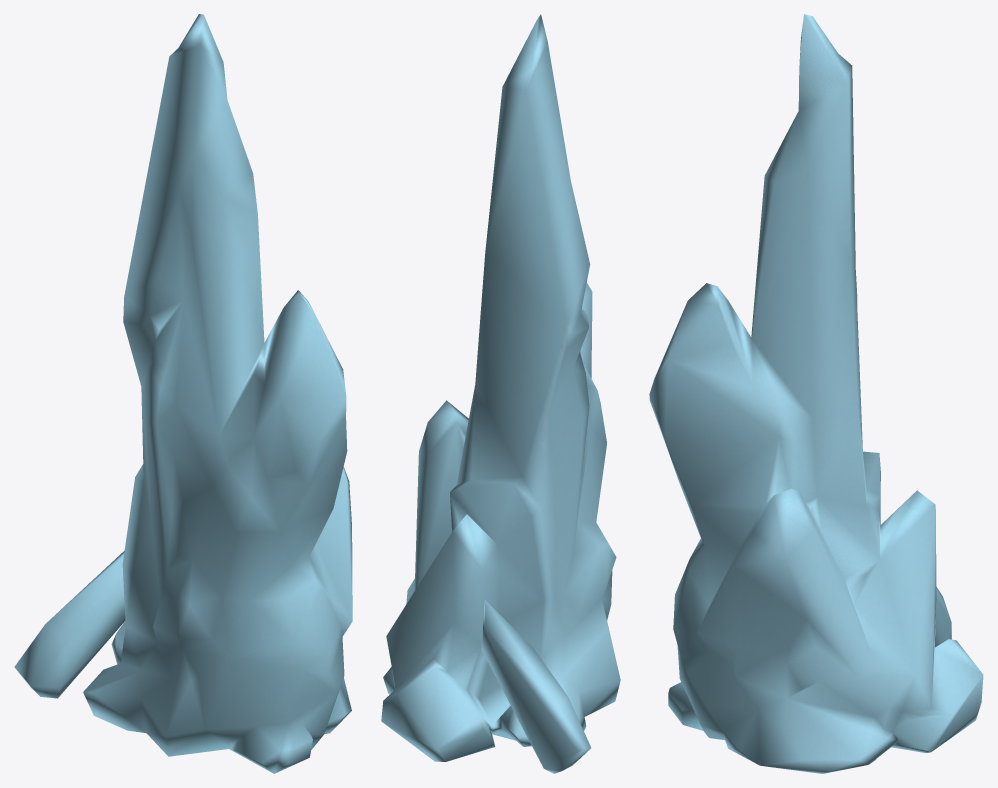
Rendered from prp_ice_spire_a.glb.
The picture shows the model from 3 angles, left to right: view 1: azimuth 30°, elevation 25°; view 2: azimuth 150°, elevation 25°; view 3: azimuth 270°, elevation 25°; orthographic projection. The views are drawn at different scales.
Parts seen in each view (by area): view 1: prp_ice_spire_a; view 2: prp_ice_spire_a; view 3: prp_ice_spire_a.
Part boxes in pixels (bbox=[...]): prp_ice_spire_a: bbox=[14, 14, 352, 773]; prp_ice_spire_a: bbox=[381, 14, 620, 773]; prp_ice_spire_a: bbox=[649, 14, 983, 773].
Size of the model in its own units: 1.49 by 4 by 1.74.
Materials: 1 (1 with a texture image).
